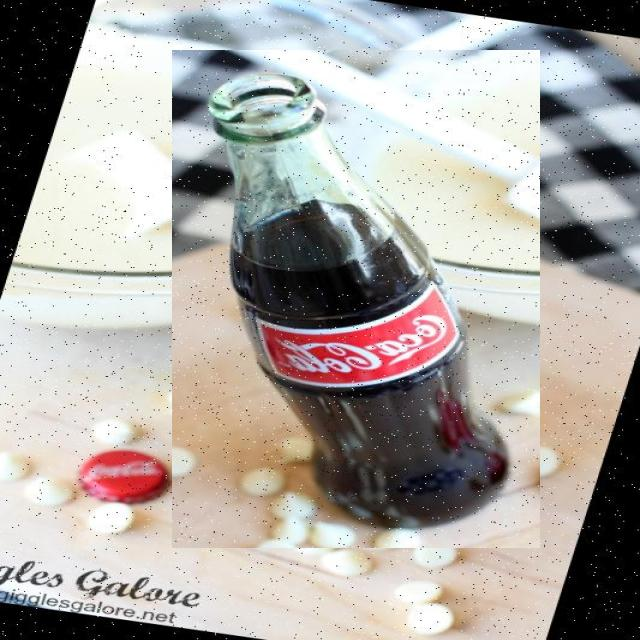coca-cola: (172, 50, 540, 548)
